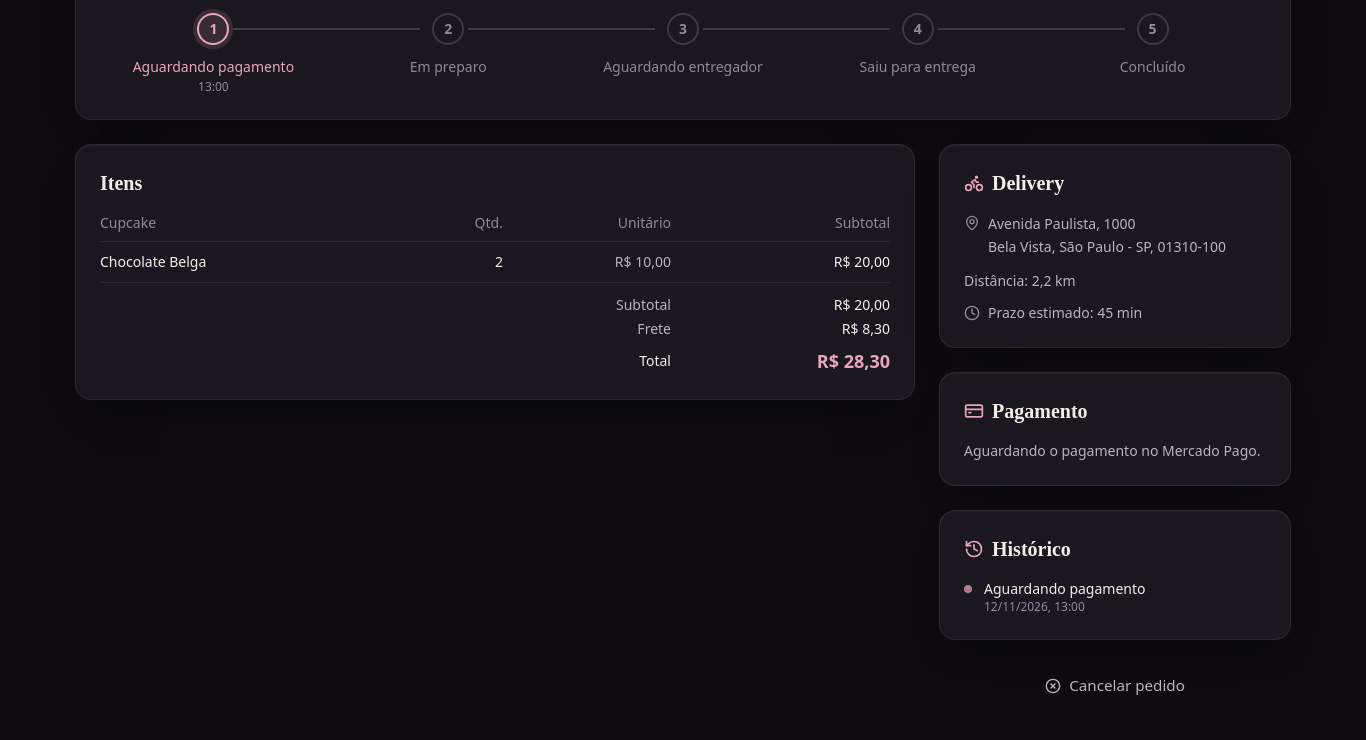
OrderDetailPage › cancela pedido aguardando pagamento após confirmação
(page scrolled)
Click the button "Cancelar pedido": x=1115, y=686 x1=939 y1=664 x2=1291 y2=708
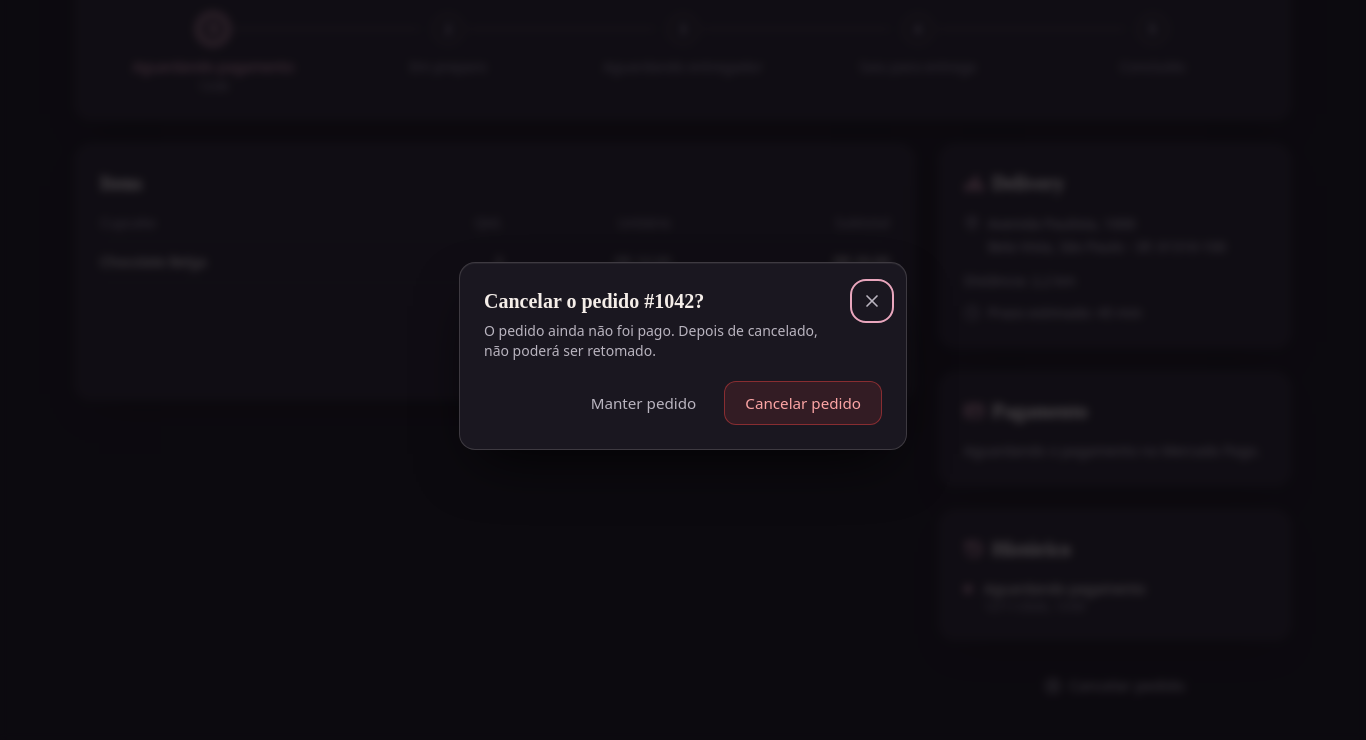
Click the button "Cancelar pedido": x=803, y=403 x1=724 y1=381 x2=882 y2=425
(page scrolled)
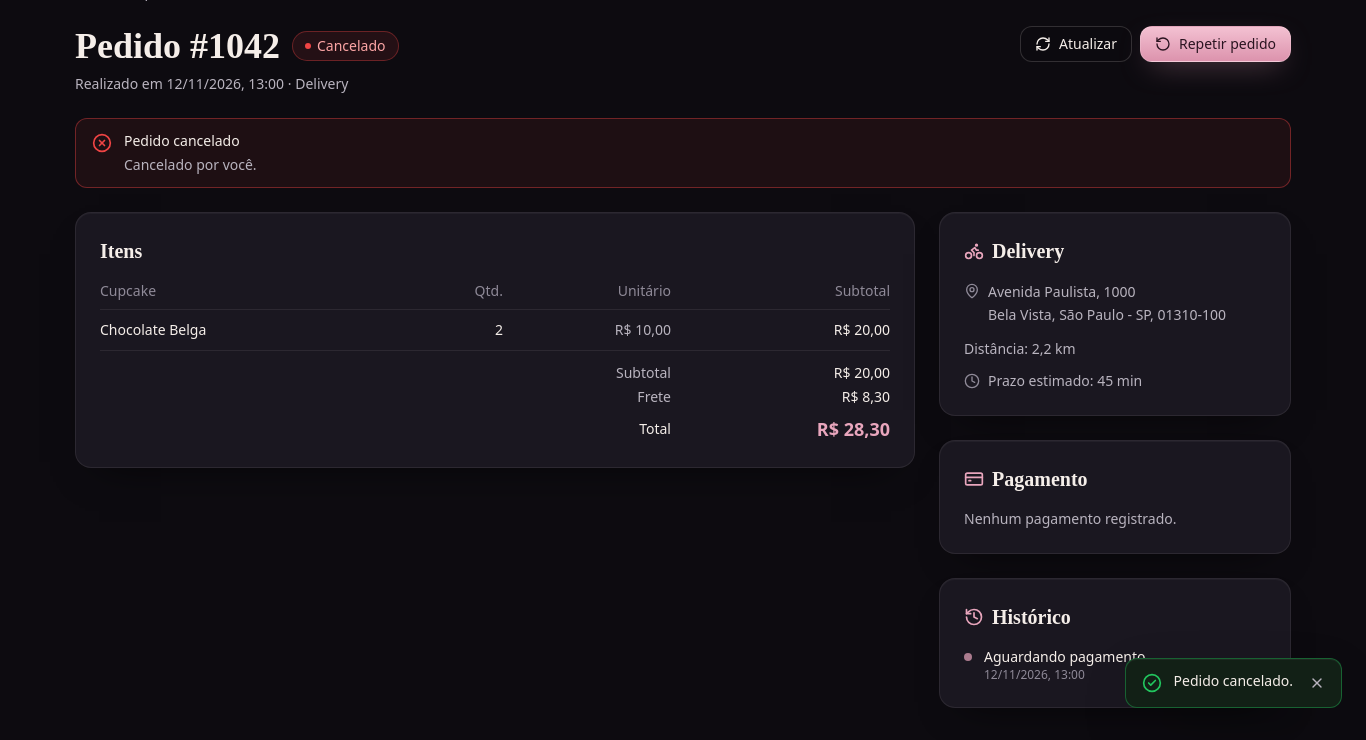
Expected: the text "Cancelado por você." is shown, x1=124 y1=155 x2=257 y2=174
